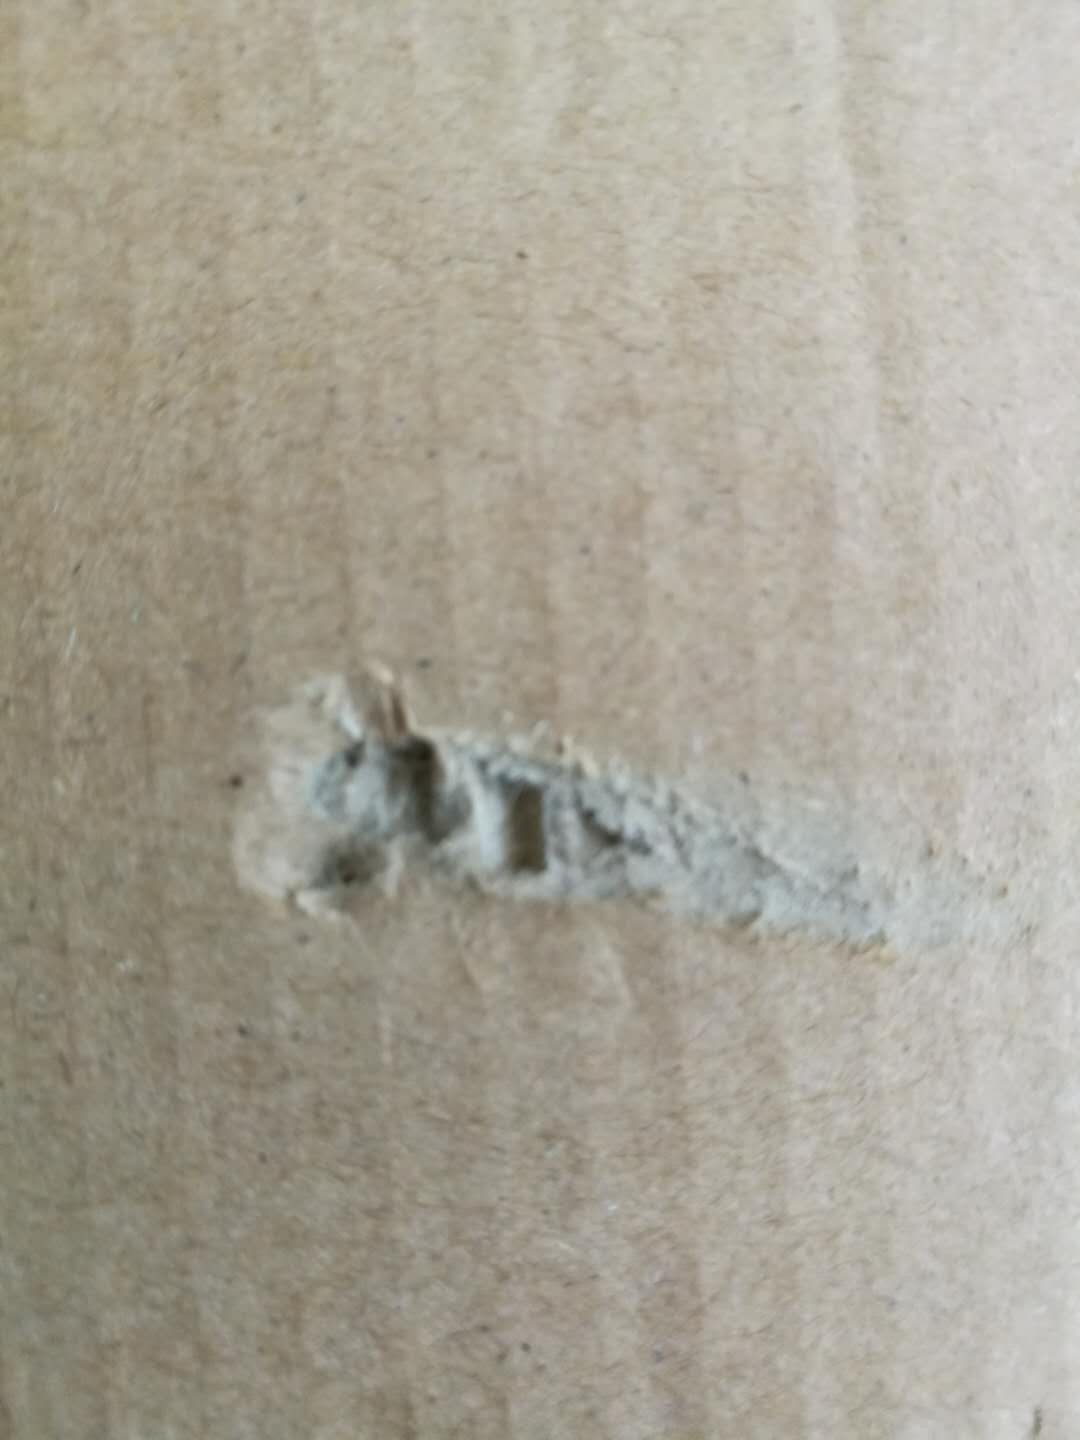defect: (185, 618, 1057, 1013)
